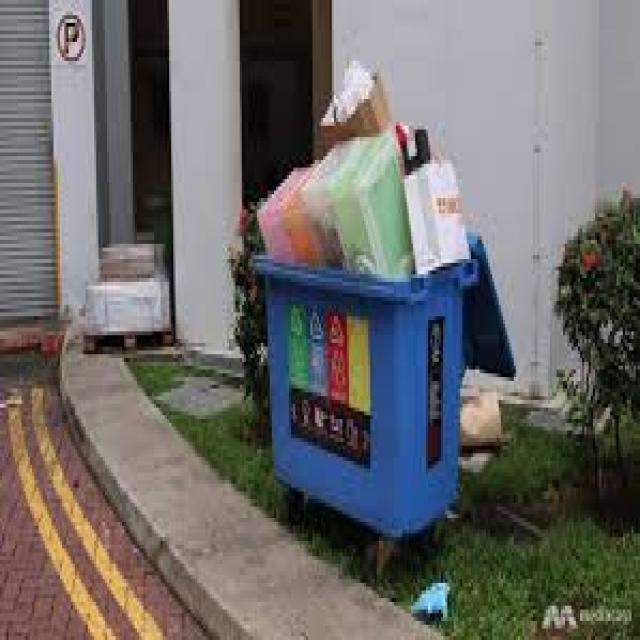bin_full: (253, 52, 478, 552)
bulk_waste: (260, 153, 414, 299), (314, 65, 390, 156), (458, 384, 501, 450)
